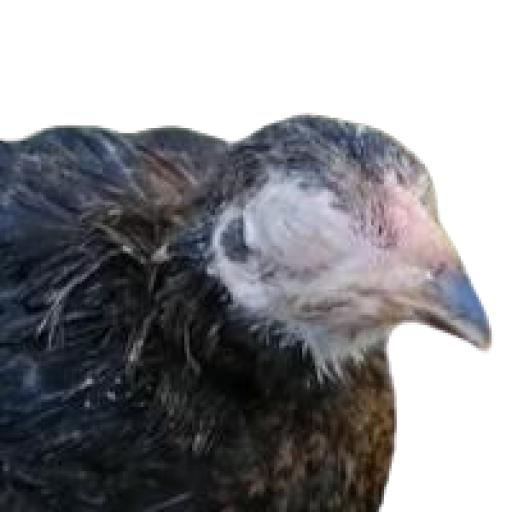disease: (229, 146, 378, 298)
